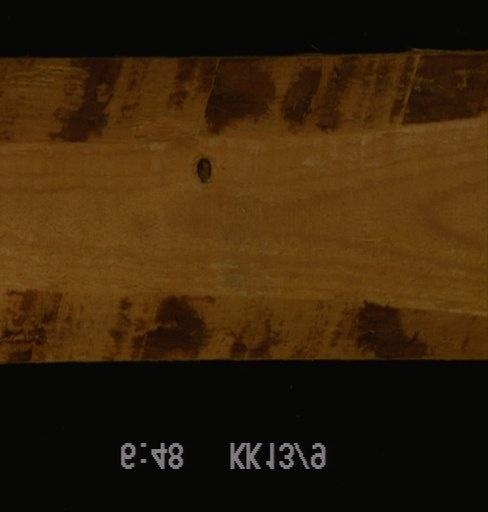dry_knot: (192, 154, 213, 188)
wave: (0, 49, 487, 142), (0, 294, 487, 359)
